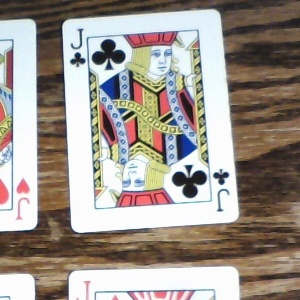card: (58, 9, 242, 233)
